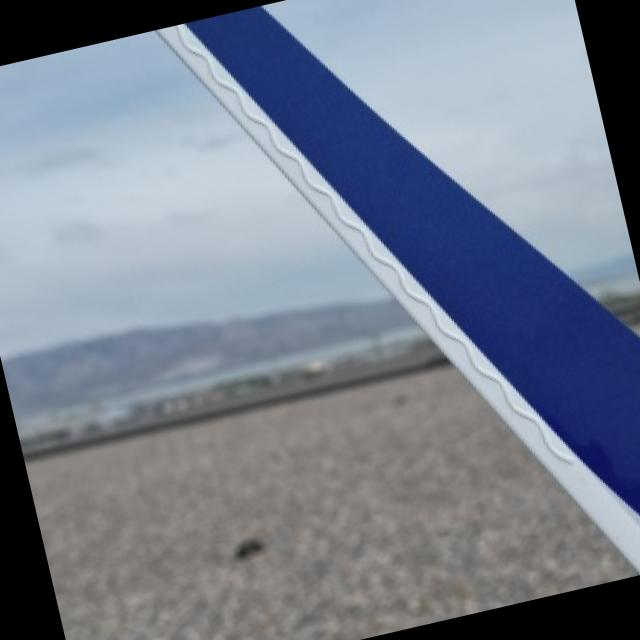healthy: (161, 5, 640, 568), (0, 33, 381, 352)
